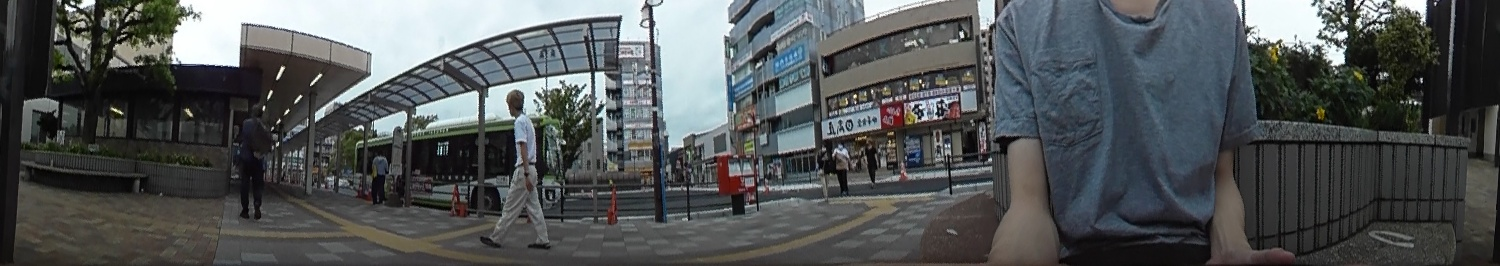difficult_person: (817, 145, 833, 197), (862, 139, 879, 182), (835, 141, 846, 195)
person: (491, 89, 554, 247), (238, 104, 267, 216), (372, 147, 388, 201)
